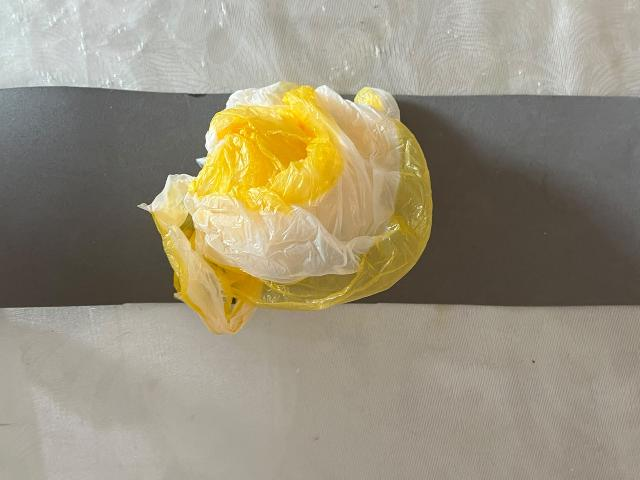LDPE: (116, 52, 535, 415)
